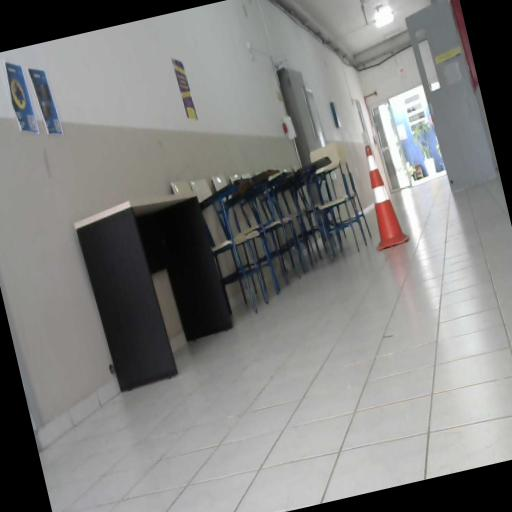cone: (354, 140, 410, 252)
